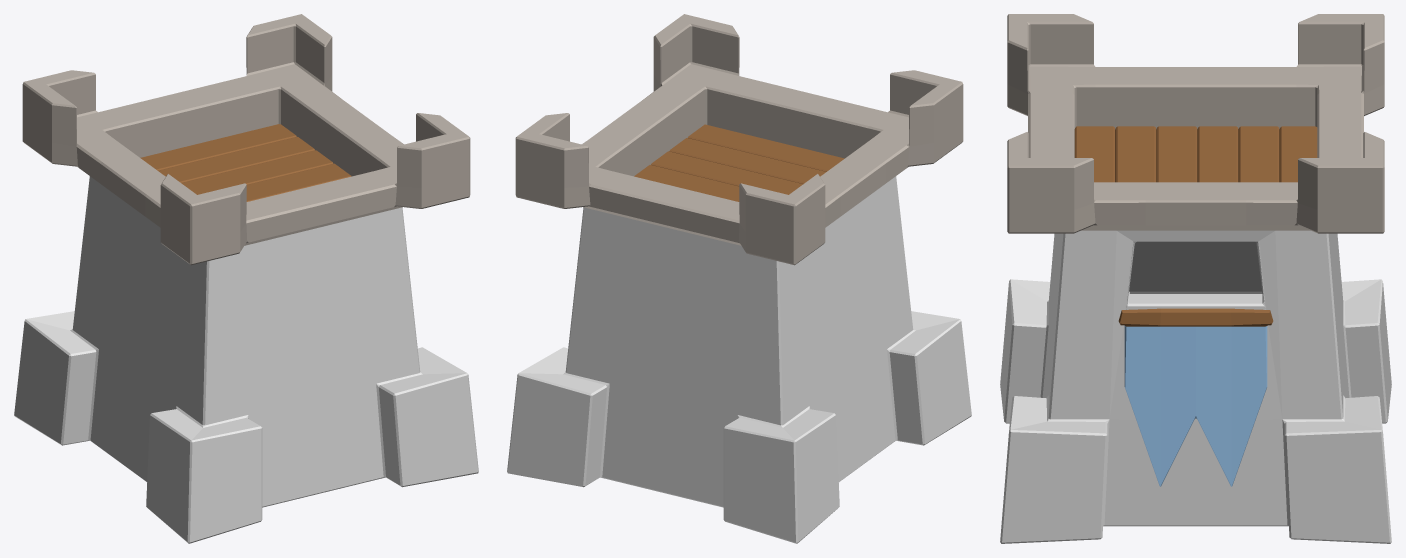
The model's file is tower.fbx.
The picture shows the model from 3 angles, left to right: view 1: azimuth 30°, elevation 25°; view 2: azimuth 150°, elevation 25°; view 3: azimuth 270°, elevation 25°; orthographic projection. The views are drawn at different scales.
Visible parts, largest first — view 1: Cube.008, Cube; view 2: Cube.008, Cube; view 3: Cube.008, Cube.
Boxes of the visible parts, x1,y1,x2,y2 form: Cube.008: (14,14,478,543); Cube: (140,124,351,201); Cube.008: (507,14,971,543); Cube: (634,124,844,201); Cube.008: (1000,14,1391,543); Cube: (1074,126,1317,182).
Bounding box in the file's own units: 624 × 687 × 650.
